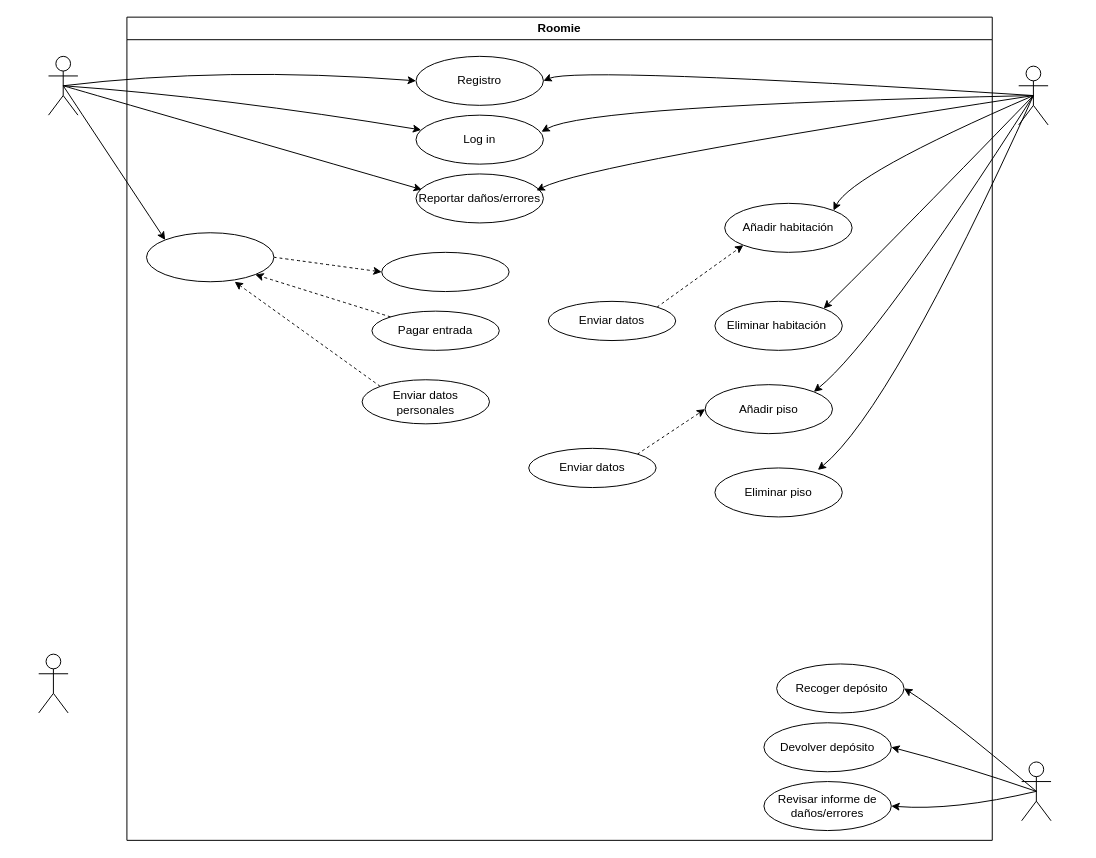
This 1096x858 diagram has some shape labels left out. Here are the shapes that lost their labels. From the top down, the box of each, then its label:
(48, 55, 78, 115): Inquilino
(1018, 65, 1048, 125): Arrendador
(146, 232, 274, 282): Reservar habitación
(381, 251, 509, 292): Cancelar reserva
(38, 653, 68, 713): Administrador
(1021, 761, 1051, 821): Seguro depósito
